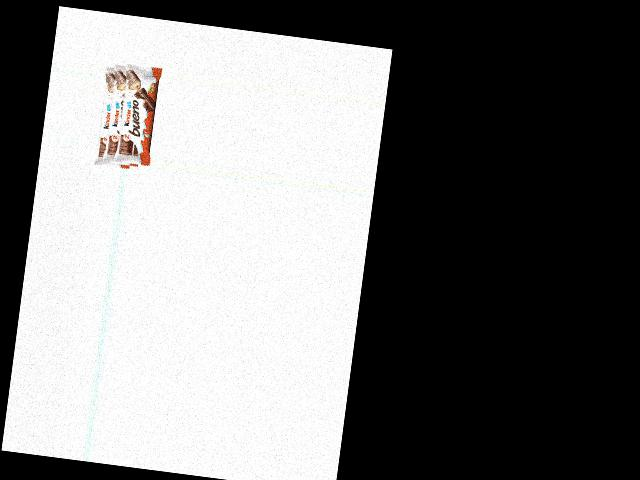chocolate: (93, 63, 163, 171)
